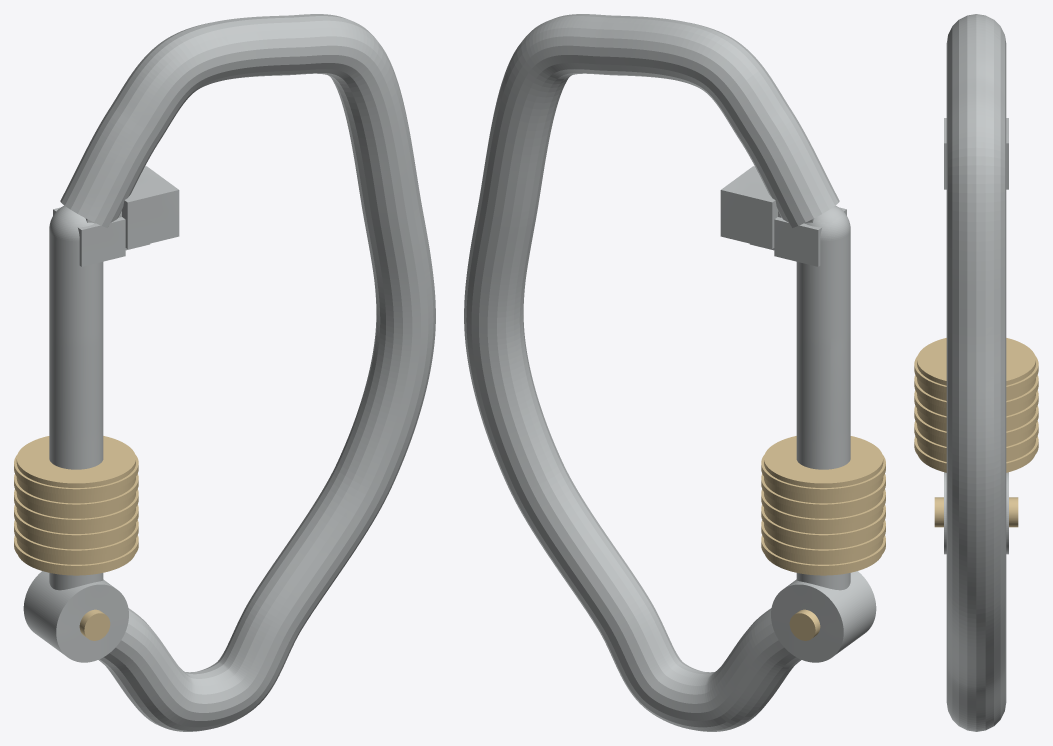
File: Sports_Carabiner__0003.glb
The picture shows the model from 3 angles, left to right: view 1: azimuth 30°, elevation 25°; view 2: azimuth 150°, elevation 25°; view 3: azimuth 270°, elevation 25°; orthographic projection.
Visible parts, largest first — view 1: body::body_loop, gate::gate_bar, lock_sleeve::lock_sleeve_barrel, gate::gate_latch, body::nose_lug, gate::hinge_pin; view 2: body::body_loop, gate::gate_bar, lock_sleeve::lock_sleeve_barrel, gate::gate_latch, body::nose_lug, gate::hinge_pin; view 3: body::body_loop, lock_sleeve::lock_sleeve_barrel, gate::hinge_pin, gate::gate_bar, gate::gate_latch.
Boxes of the visible parts, x1,y1,x2,y2 form: body::body_loop: (60, 14, 435, 731); gate::gate_bar: (23, 205, 149, 662); lock_sleeve::lock_sleeve_barrel: (14, 436, 138, 575); gate::gate_latch: (122, 166, 179, 248); body::nose_lug: (53, 207, 125, 266); gate::hinge_pin: (79, 609, 110, 640); body::body_loop: (464, 14, 839, 731); gate::gate_bar: (750, 205, 876, 662); lock_sleeve::lock_sleeve_barrel: (761, 436, 885, 575); gate::gate_latch: (720, 166, 777, 248); body::nose_lug: (774, 207, 846, 266); gate::hinge_pin: (789, 609, 820, 640); body::body_loop: (946, 14, 1006, 731); lock_sleeve::lock_sleeve_barrel: (914, 338, 1038, 472); gate::hinge_pin: (934, 497, 1018, 527); gate::gate_bar: (944, 472, 1008, 554); gate::gate_latch: (944, 118, 1008, 189).
Size of the model in its own units: 0.0699 by 0.1141 by 0.0184.
Materials: 2 (1 with a texture image).
